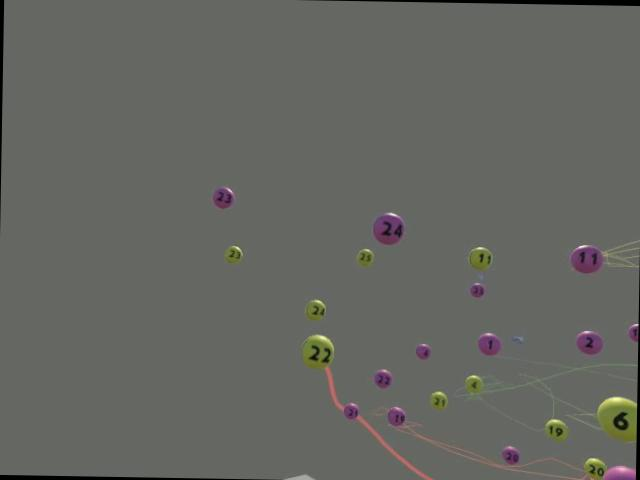ball_01_pink: (477, 332, 500, 355)
ball_02_pink: (576, 330, 602, 354)
ball_04_pink: (415, 343, 430, 359)
ball_04_yellow: (464, 375, 482, 393)
ball_06_yellow: (596, 394, 636, 442)
ball_11_pink: (569, 243, 603, 273)
ball_11_yellow: (468, 246, 492, 270)
ball_19_pink: (387, 406, 405, 426)
ball_19_yellow: (544, 418, 568, 440)
ball_20_pink: (502, 444, 520, 464)
ball_20_yellow: (584, 457, 606, 479)
ball_21_pink: (344, 402, 359, 420)
ball_21_yellow: (429, 391, 447, 409)
ball_22_pink: (374, 368, 392, 388)
ball_22_yellow: (300, 332, 334, 368)
ball_23_pink: (212, 186, 234, 207)
ball_23_yellow: (224, 244, 242, 264)
ball_24_yellow: (372, 210, 404, 244), (305, 300, 326, 321)
ball_25_pink: (470, 282, 484, 298)
ball_25_yellow: (356, 248, 374, 266)
ball_unknown: (601, 463, 635, 480), (628, 322, 638, 341)
